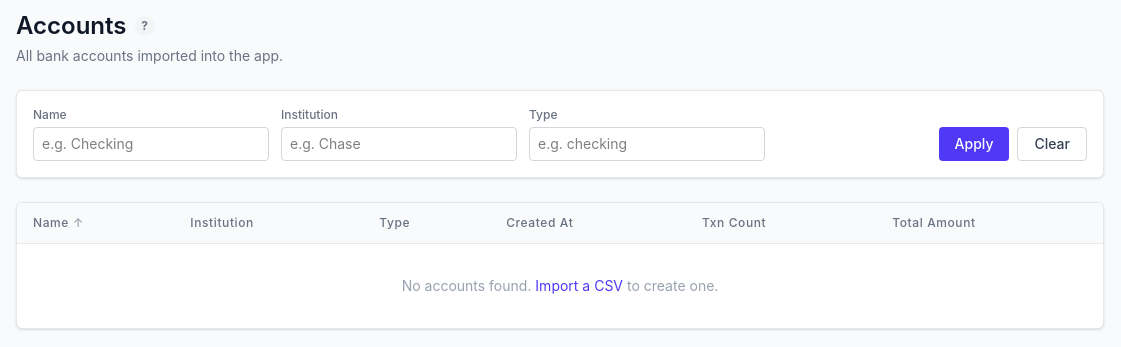
Test: AccountsPage › clears filter inputs when Clear is clicked
Type "Chase" into the field with placeholder "e.g. Checking".
click(151, 144); type("Chase")  # box [33,127,269,161]
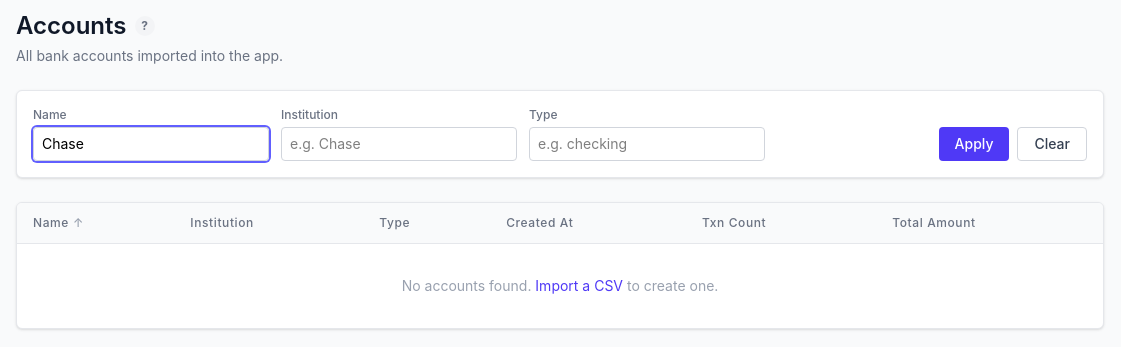
Click the button "Clear".
click(1052, 144)  # box [1018,127,1087,161]
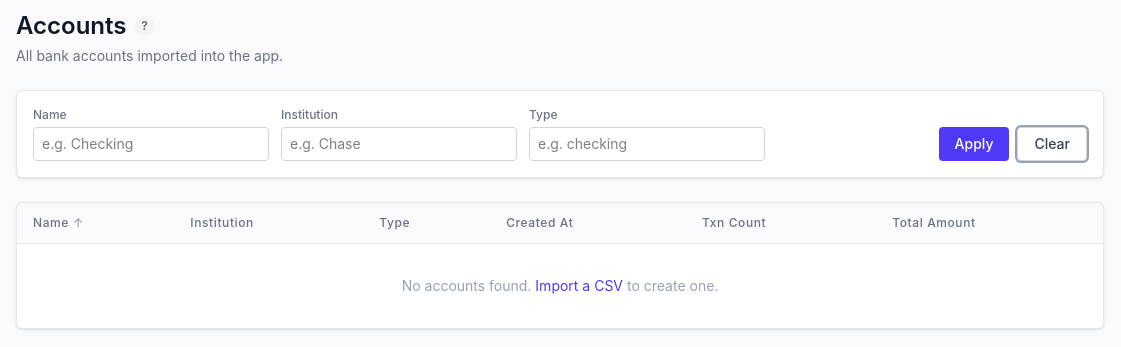
Now the field with placeholder "e.g. Checking" is empty, box [33,127,269,161]
